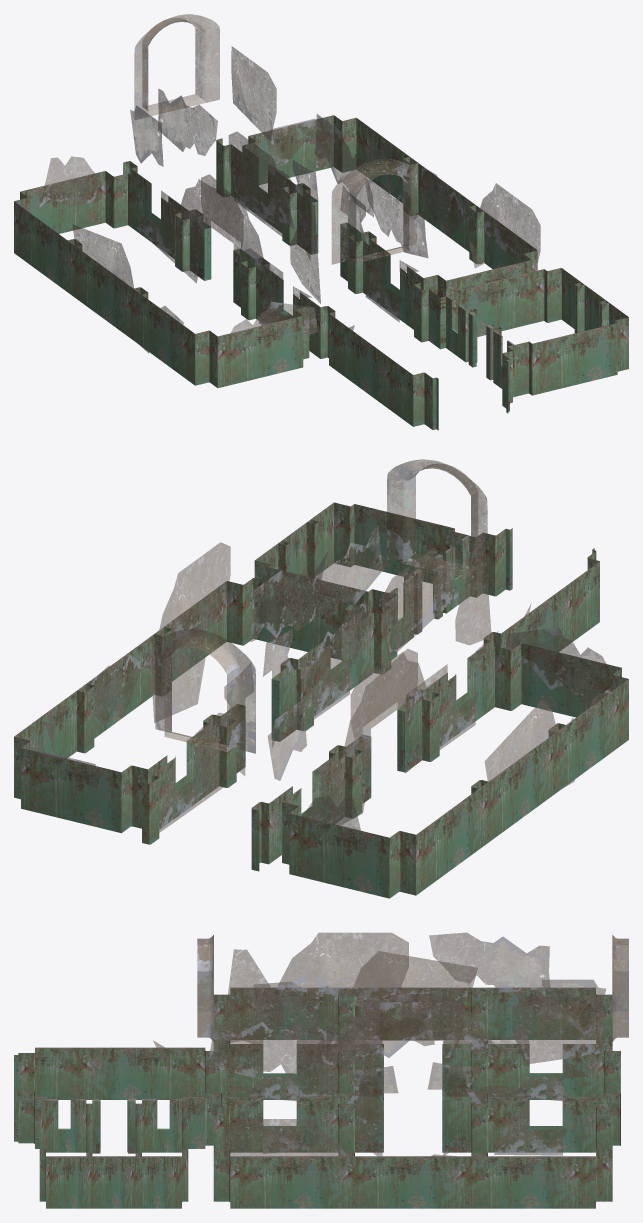
The model's file is mura.glb.
3 views of the same model, one above another, from view 1: azimuth 30°, elevation 25°; view 2: azimuth 150°, elevation 25°; view 3: azimuth 270°, elevation 25° (orthographic). The views are drawn at different scales.
Parts seen in each view (by area): view 1: mura basse, mura sparse; view 2: mura basse, mura sparse; view 3: mura basse, mura sparse.
Boxes of the visible parts, <box> form: mura basse: <box>14,115,628,430</box>; mura sparse: <box>39,14,540,376</box>; mura basse: <box>14,502,628,898</box>; mura sparse: <box>15,459,615,832</box>; mura basse: <box>14,987,620,1208</box>; mura sparse: <box>153,932,628,1168</box>.
Bounding box in the file's own units: 15.36 × 8.48 × 23.67.
Materials: 3 (3 with a texture image).
